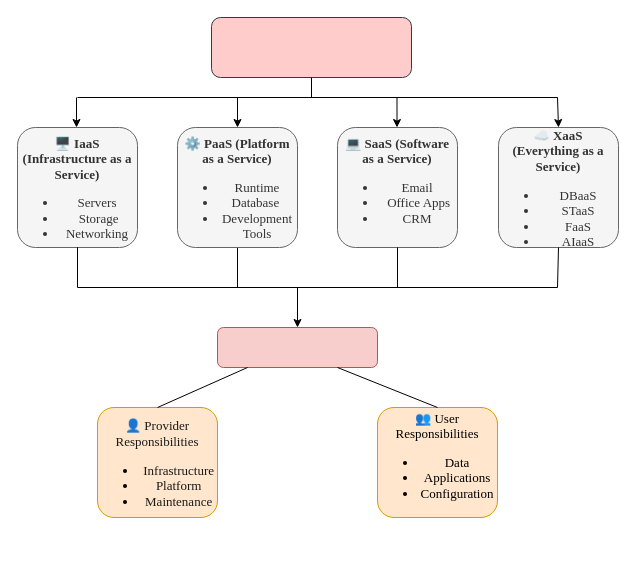
Image size: 636x571. Some labels were removed from this diagram. The centre of each missing label's shape, as x and y in pixels:
Responsibilities: (x=297, y=347)
SERVICE MODELS: (x=311, y=47)
